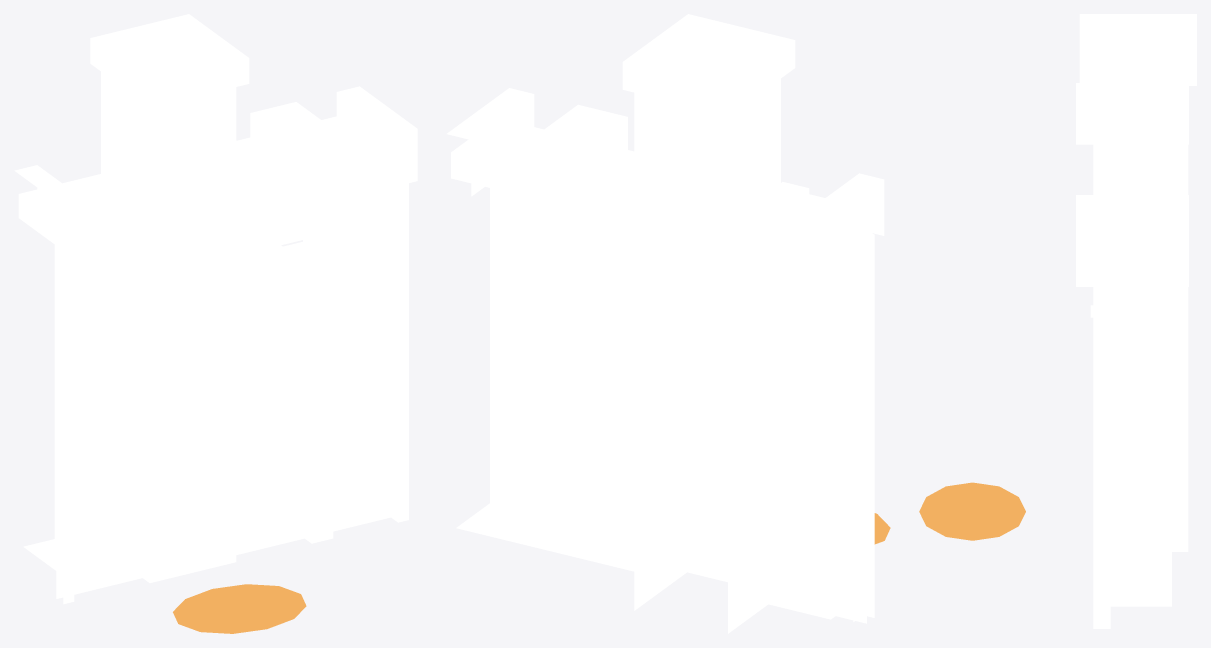
The model's file is T1_End_A.glb.
3 views of the same model, side by side, from view 1: azimuth 30°, elevation 25°; view 2: azimuth 150°, elevation 25°; view 3: azimuth 270°, elevation 25° (orthographic). The views are drawn at different scales.
Visible parts, largest first — view 1: T1_End_A; view 2: T1_End_A; view 3: T1_End_A.
Boxes of the visible parts, box(x1,y1,x2,y2) form: T1_End_A: box(14, 14, 417, 633); T1_End_A: box(447, 14, 890, 633); T1_End_A: box(919, 14, 1196, 628).
Size of the model in its own units: 4.5 by 6.32 by 3.22.
